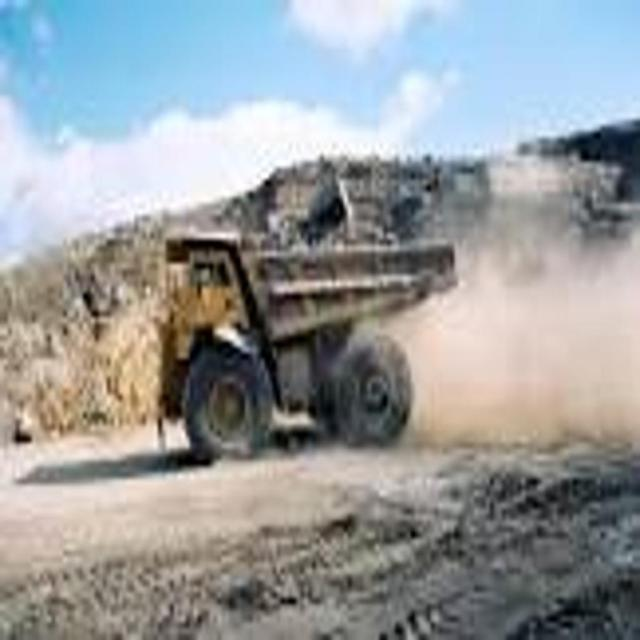dump_truck: (160, 199, 459, 487)
